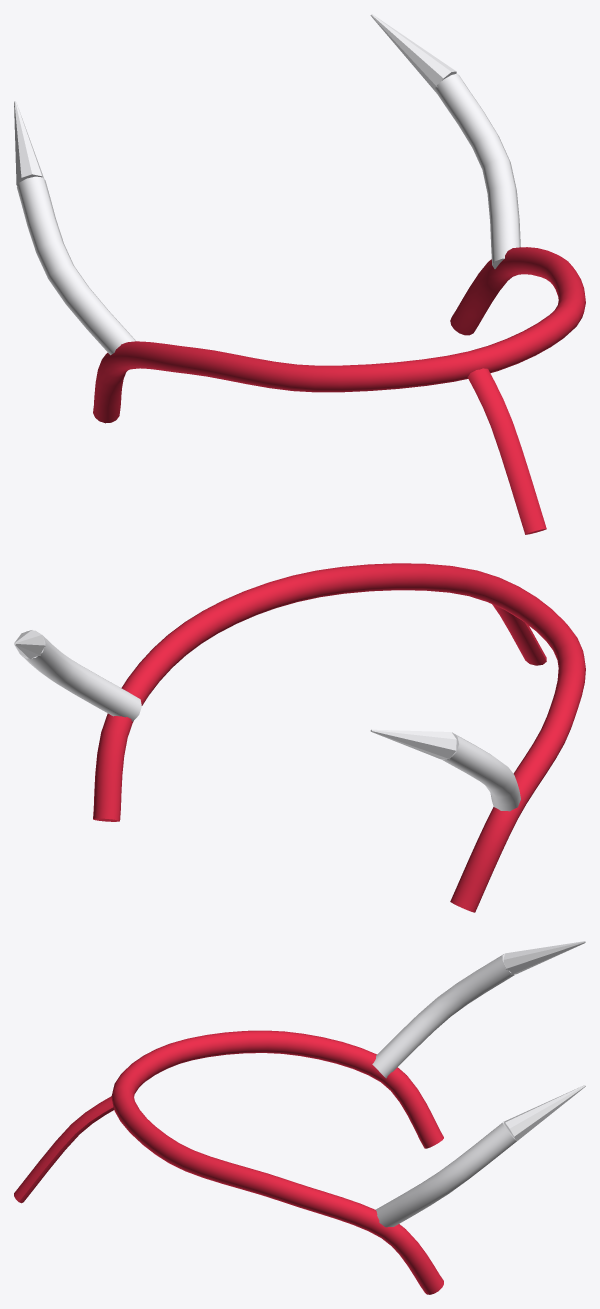
File: horned.glb
3 renders of one model, top to bottom at view 1: azimuth 30°, elevation 25°; view 2: azimuth 150°, elevation 25°; view 3: azimuth 270°, elevation 25°, orthographic. The views are drawn at different scales.
Visible parts, largest first — view 1: Halo_horned; view 2: Halo_horned; view 3: Halo_horned.
Boxes of the visible parts, <box> form: Halo_horned: <box>14,14,585,534</box>; Halo_horned: <box>14,563,585,912</box>; Halo_horned: <box>14,941,585,1294</box>.
Bounding box in the file's own units: 0.9299 × 0.4839 × 1.21.
